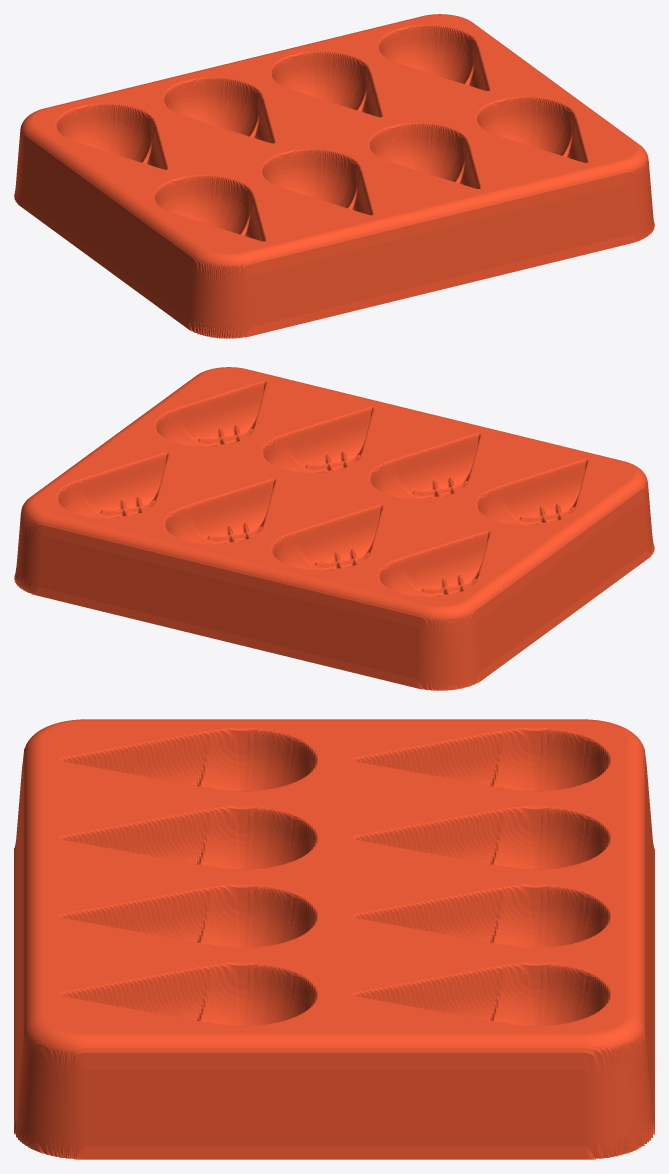
The model's file is mold.glb.
3 views of the same model, one above another, from view 1: azimuth 30°, elevation 25°; view 2: azimuth 150°, elevation 25°; view 3: azimuth 270°, elevation 25° (orthographic). The views are drawn at different scales.
Visible parts, largest first — view 1: geometry_0; view 2: geometry_0; view 3: geometry_0.
Boxes of the visible parts, x1=… form: geometry_0: x1=14, y1=14, x2=654, y2=338; geometry_0: x1=14, y1=367, x2=654, y2=690; geometry_0: x1=14, y1=719, x2=654, y2=1159.
Size of the model in its own units: 0.1005 by 0.0159 by 0.0809.
